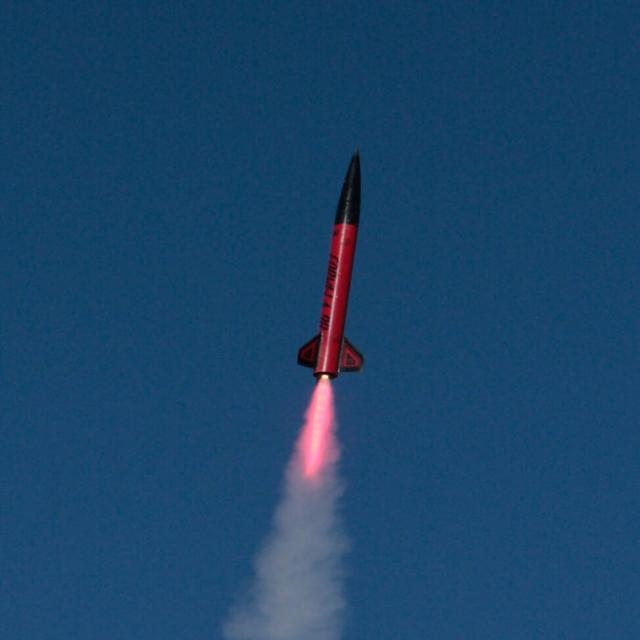Rocket: (294, 147, 365, 380)
